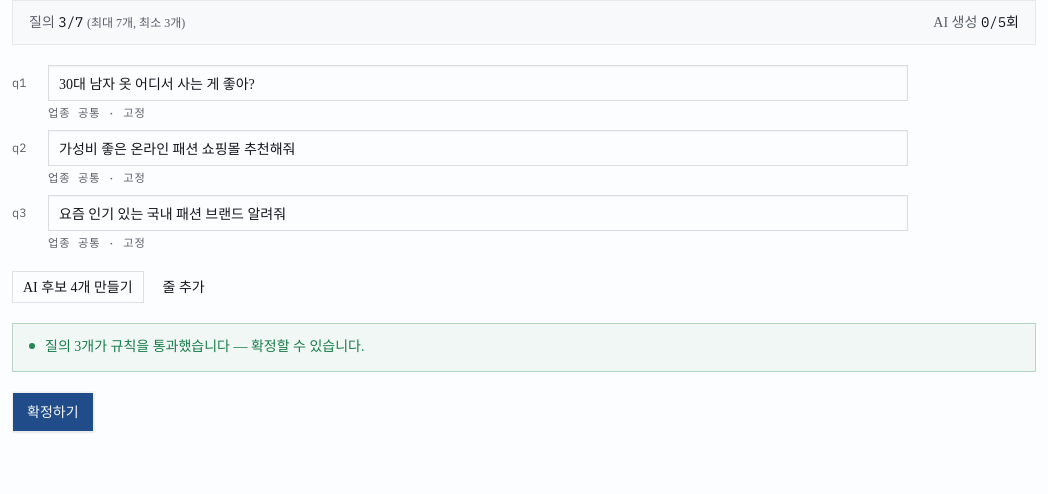
Test: QueryEditor — 줄 조작 › 패딩된 빈 칸을 그대로 그리지 않는다 — 필요한 만큼만 그리고 [줄 추가]로 늘린다
This screenshot has width=1048, height=494.
Check: the number of fields is 3, box [48, 65, 908, 101]; [48, 130, 908, 166]; [48, 195, 908, 231]
Click the button "줄 추가".
click(184, 288)  # box [152, 272, 216, 304]
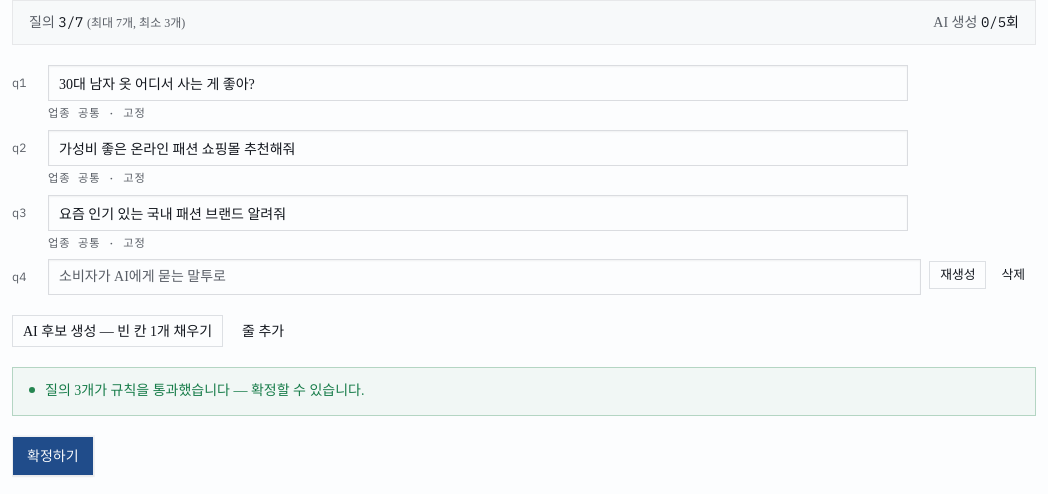
Check: the number of fields is 4, box [48, 65, 908, 101]; [48, 130, 908, 166]; [48, 195, 908, 231]; [48, 260, 921, 296]
